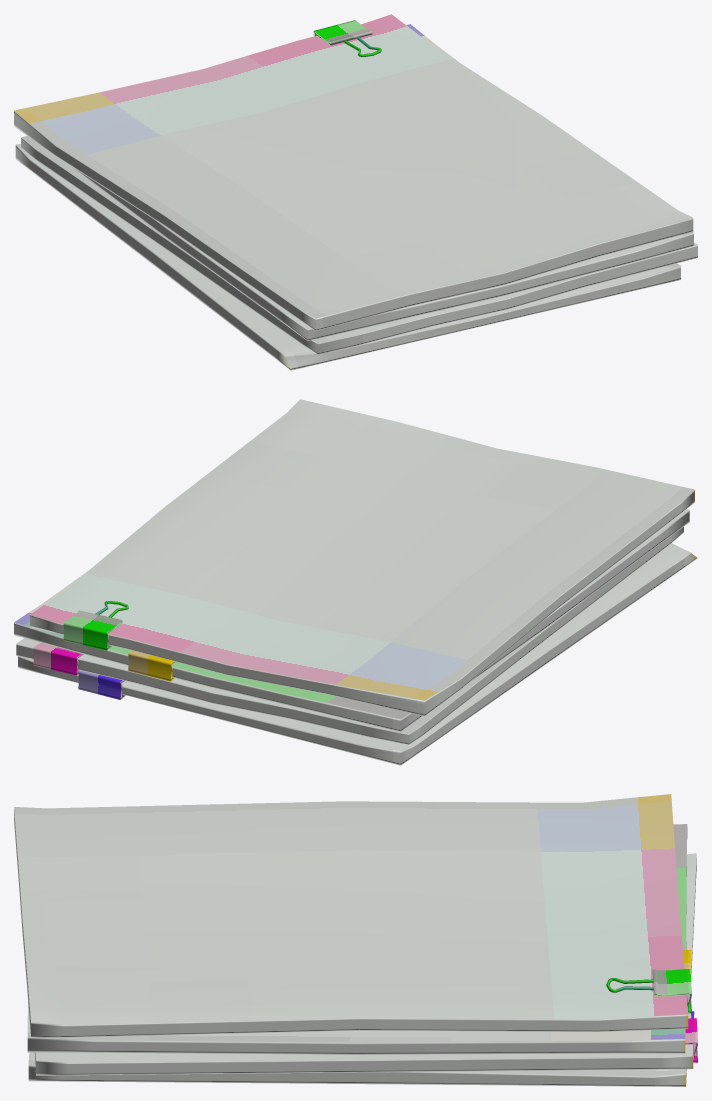
File: a_sch_entrance01_obj_paper02.gltf
3 renders of one model, top to bottom at view 1: azimuth 30°, elevation 25°; view 2: azimuth 150°, elevation 25°; view 3: azimuth 270°, elevation 25°, orthographic. The views are drawn at different scales.
Visible parts, largest first — view 1: a_sch_entrance01_obj_paper02_mesh_shape:a_sch_office02_paper; view 2: a_sch_entrance01_obj_paper02_mesh_shape:a_sch_office02_paper; view 3: a_sch_entrance01_obj_paper02_mesh_shape:a_sch_office02_paper.
Part boxes in pixels (bbox=[...]): a_sch_entrance01_obj_paper02_mesh_shape:a_sch_office02_paper: bbox=[14, 14, 697, 370]; a_sch_entrance01_obj_paper02_mesh_shape:a_sch_office02_paper: bbox=[14, 399, 697, 765]; a_sch_entrance01_obj_paper02_mesh_shape:a_sch_office02_paper: bbox=[14, 794, 697, 1086].
Bounding box in the file's own units: 0.3127 × 0.0467 × 0.3938.
Materials: 1 (1 with a texture image).
